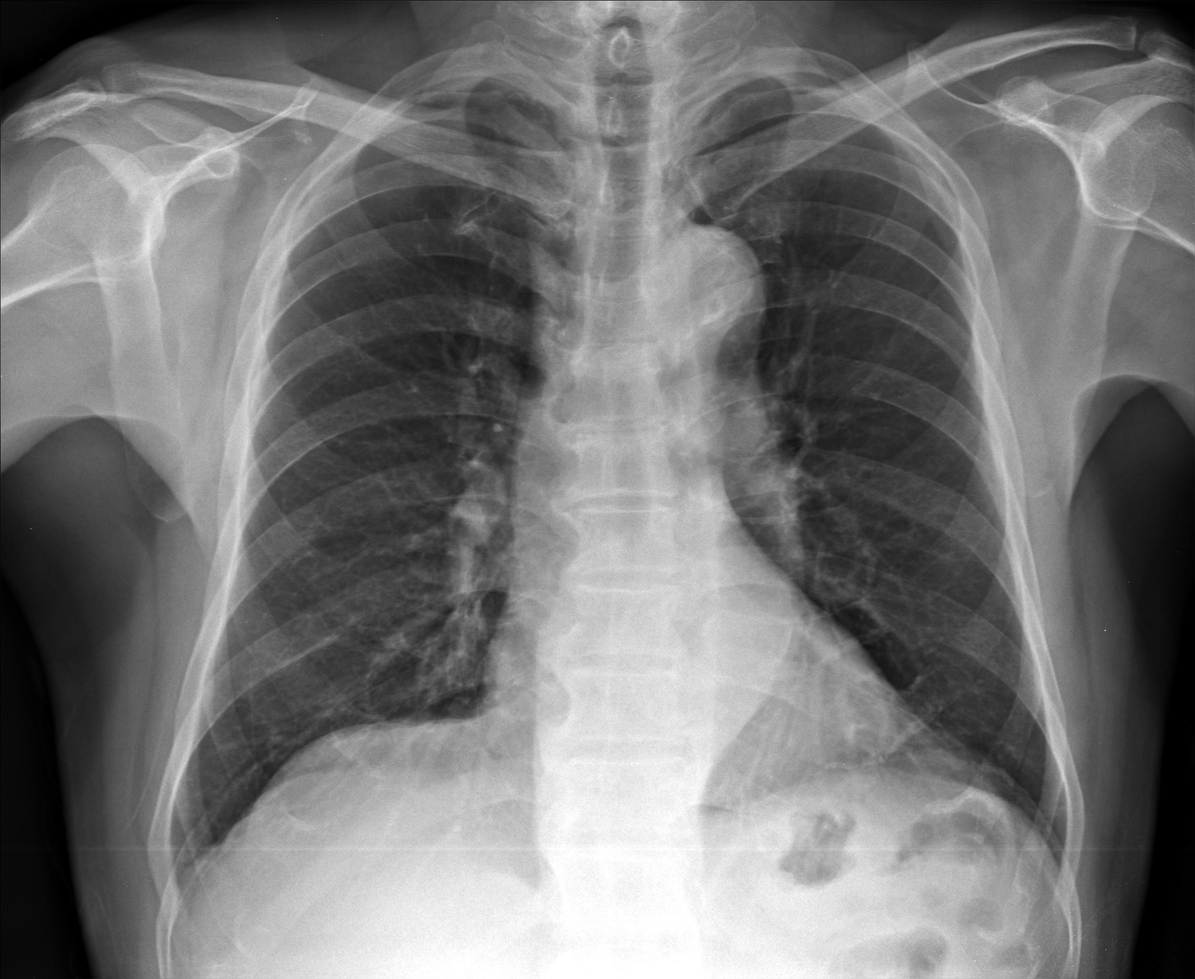Aortic enlargement: (637, 218, 767, 383)
